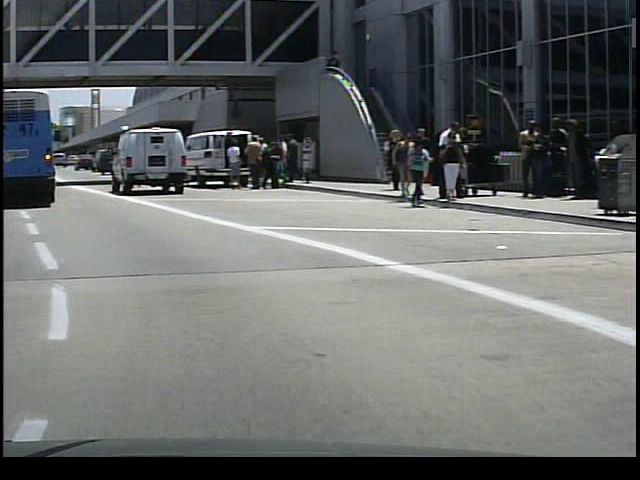person: (436, 121, 467, 203), (433, 129, 461, 204), (238, 135, 267, 193), (280, 132, 301, 184), (221, 135, 240, 192)
